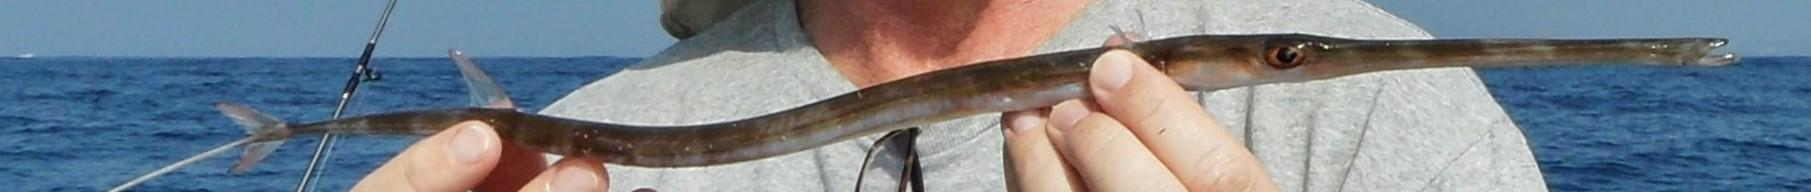Fistularia commersonii: (216, 6, 1716, 192)
